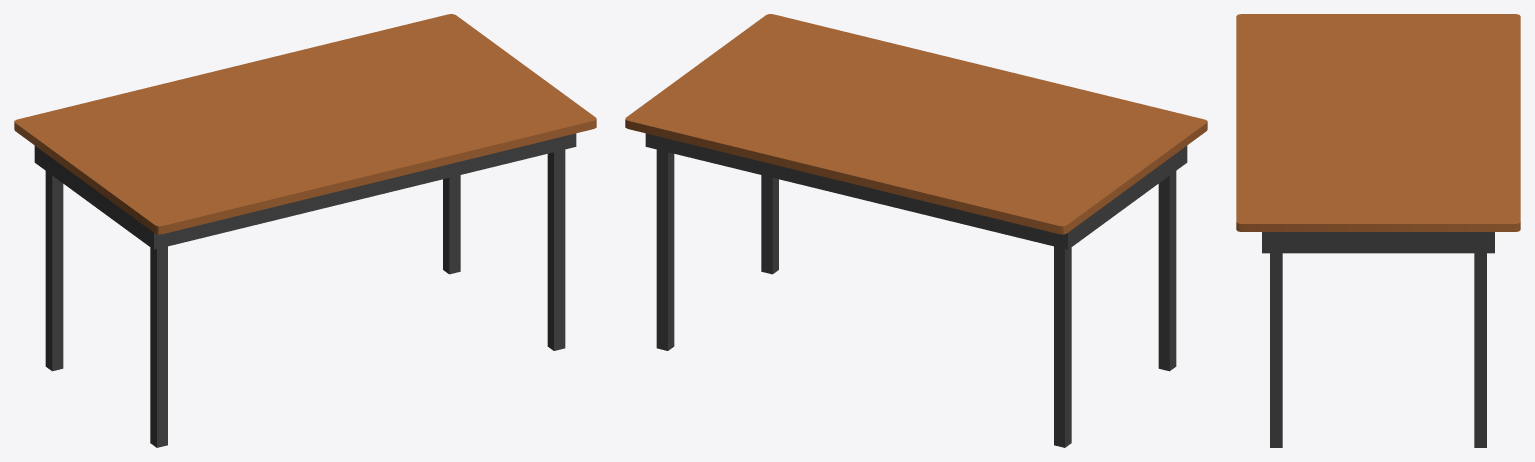
File: Lab Table.fbx
3 views of the same model, side by side, from view 1: azimuth 30°, elevation 25°; view 2: azimuth 150°, elevation 25°; view 3: azimuth 270°, elevation 25° (orthographic). The views are drawn at different scales.
Visible parts, largest first — view 1: Lab table; view 2: Lab table; view 3: Lab table.
Part boxes in pixels (left/top/right/bottom): Lab table: left=14, top=14, right=596, bottom=447; Lab table: left=625, top=14, right=1207, bottom=447; Lab table: left=1236, top=14, right=1520, bottom=447.
Bounding box in the file's own units: 148 × 75.94 × 84.38.
